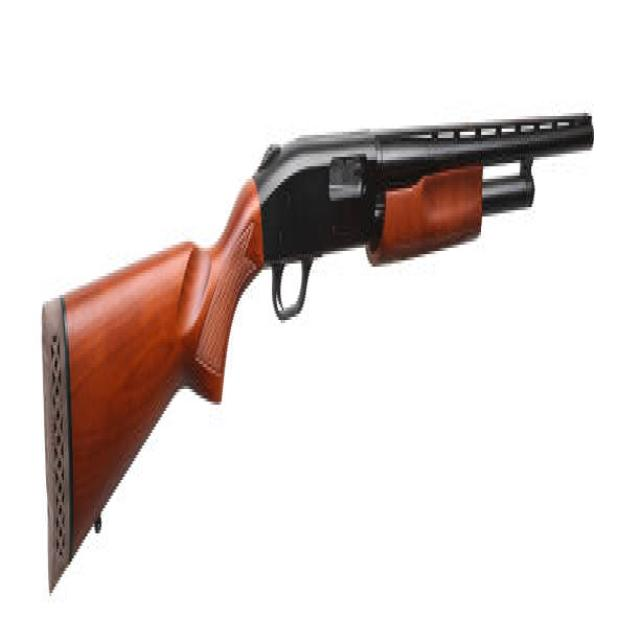rifle: (41, 82, 602, 597)
